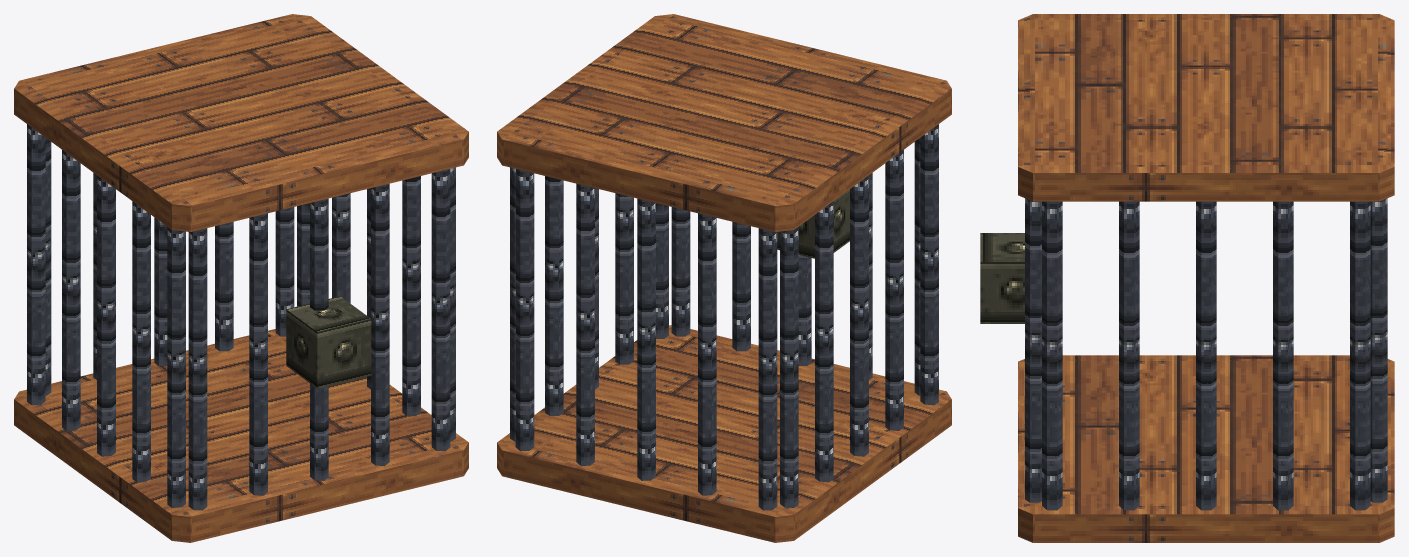
File: cage.glb
3 renders of one model, left to right at view 1: azimuth 30°, elevation 25°; view 2: azimuth 150°, elevation 25°; view 3: azimuth 270°, elevation 25°, orthographic. The views are drawn at different scales.
Parts seen in each view (by area): view 1: Frame.001, Frame, Lock, Bar, Bar.004, Bar.001, Bar.003, Bar.010, Bar.012, Bar.011, Bar.013, Bar.014 (+11 smaller); view 2: Frame.001, Frame, Bar.005, Bar.009, Bar.007, Bar.006, Bar.008, Bar.014, Bar.012, Bar.013, Bar.011, Bar.010 (+11 smaller); view 3: Frame.001, Frame, Bar.015, Bar.016, Bar.017, Bar.018, Bar.019, Bar.009, Bar.004, Lock.
Part boxes in pixels (x1,y1,x2,y2): Frame.001: [14, 14, 468, 231]; Frame: [14, 329, 468, 542]; Lock: [286, 296, 371, 388]; Bar: [188, 228, 207, 510]; Bar.004: [431, 169, 450, 451]; Bar.001: [249, 213, 267, 495]; Bar.003: [371, 183, 389, 465]; Bar.010: [167, 227, 185, 507]; Bar.012: [97, 175, 115, 456]; Bar.011: [132, 201, 150, 482]; Bar.013: [62, 150, 80, 430]; Bar.014: [27, 124, 45, 405]; Frame.001: [497, 14, 951, 231]; Frame: [497, 325, 951, 542]; Bar.005: [758, 228, 777, 510]; Bar.009: [515, 169, 534, 451]; Bar.007: [637, 198, 655, 480]; Bar.006: [698, 213, 716, 495]; Bar.008: [576, 183, 594, 465]; Bar.014: [780, 227, 798, 507]; Bar.012: [850, 175, 868, 456]; Bar.013: [815, 201, 833, 482]; Bar.011: [885, 150, 903, 430]; Bar.010: [920, 124, 938, 405]; Frame.001: [1018, 14, 1394, 201]; Frame: [1018, 355, 1394, 542]; Bar.015: [1042, 201, 1062, 510]; Bar.016: [1119, 201, 1139, 510]; Bar.017: [1196, 201, 1216, 510]; Bar.018: [1273, 201, 1293, 510]; Bar.019: [1350, 201, 1370, 510]; Bar.009: [1370, 198, 1387, 502]; Bar.004: [1025, 198, 1041, 502]; Lock: [980, 233, 1024, 323].
Size of the model in its own units: 2.2 by 2.4 by 2.42.
3 materials, 3 textured.
